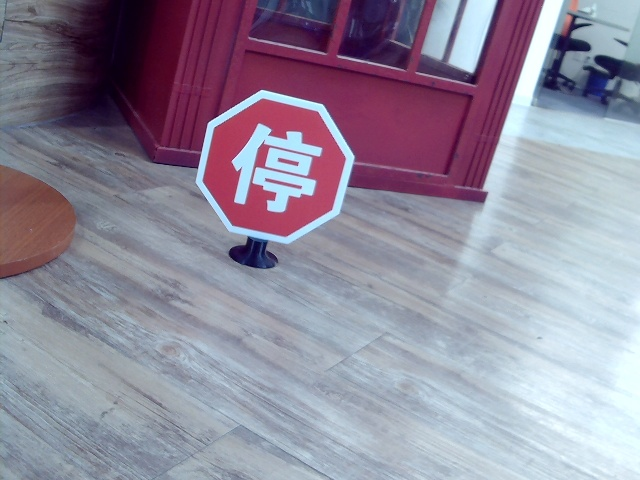stop: (232, 122, 319, 210)
